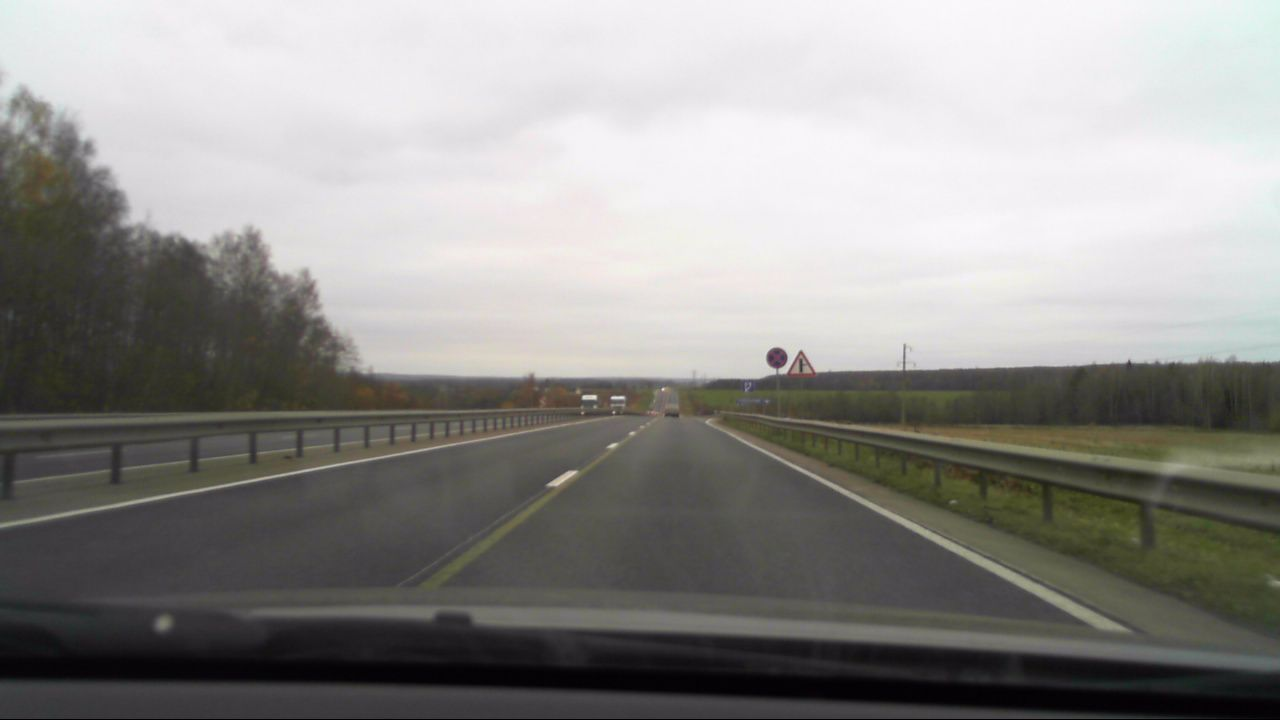No Parking: (765, 347, 788, 370)
